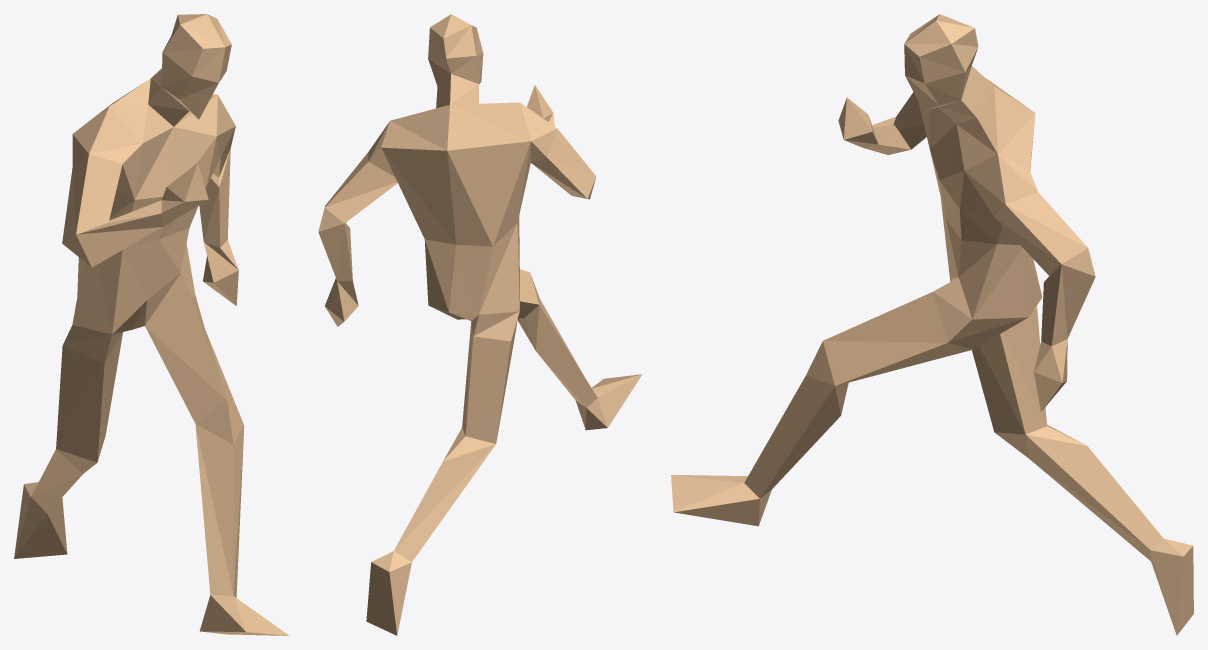
3 renders of one model, left to right at view 1: azimuth 30°, elevation 25°; view 2: azimuth 150°, elevation 25°; view 3: azimuth 270°, elevation 25°, orthographic. The views are drawn at different scales.
Bounding box in the file's own units: 0.8469 × 2.11 × 1.6.
Materials: 1 (1 with a texture image).
